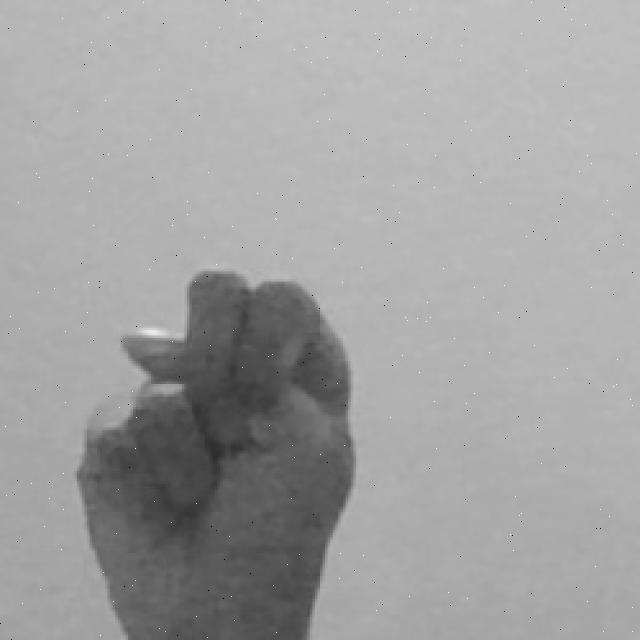N: (66, 261, 368, 640)
